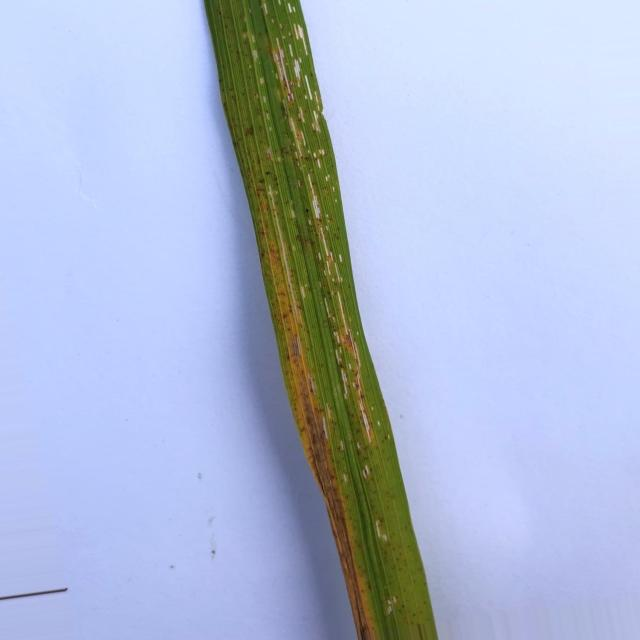Rice Tungro: (205, 0, 438, 640)
